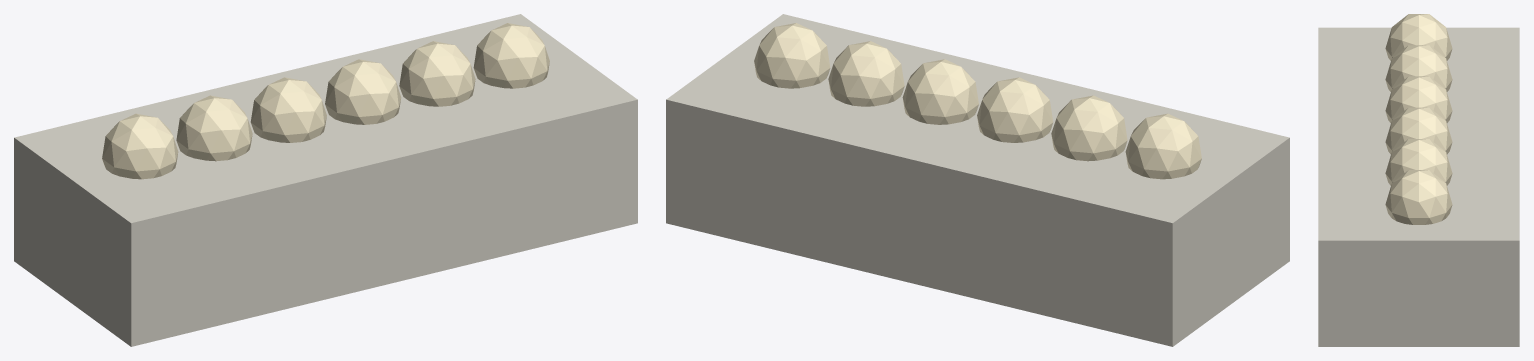
The model's file is sm_product_egg_carton.glb.
3 renders of one model, left to right at view 1: azimuth 30°, elevation 25°; view 2: azimuth 150°, elevation 25°; view 3: azimuth 270°, elevation 25°, orthographic. The views are drawn at different scales.
Parts seen in each view (by area): view 1: egg_carton_0, egg_carton_5, egg_carton_3, egg_carton_1, egg_carton_6, egg_carton_2, egg_carton_4; view 2: egg_carton_0, egg_carton_5, egg_carton_3, egg_carton_1, egg_carton_6, egg_carton_2, egg_carton_4; view 3: egg_carton_0, egg_carton_6, egg_carton_2, egg_carton_3, egg_carton_4, egg_carton_1, egg_carton_5.
Boxes of the visible parts, x1,y1,x2,y2 form: egg_carton_0: [14, 14, 637, 346]; egg_carton_5: [399, 41, 475, 106]; egg_carton_3: [250, 77, 326, 142]; egg_carton_1: [102, 113, 178, 179]; egg_carton_6: [473, 23, 549, 88]; egg_carton_2: [176, 95, 252, 161]; egg_carton_4: [325, 59, 401, 124]; egg_carton_0: [666, 14, 1289, 346]; egg_carton_5: [828, 41, 904, 106]; egg_carton_3: [977, 77, 1053, 142]; egg_carton_1: [1125, 113, 1201, 179]; egg_carton_6: [754, 23, 830, 88]; egg_carton_2: [1051, 95, 1127, 161]; egg_carton_4: [902, 59, 978, 124]; egg_carton_0: [1318, 27, 1519, 346]; egg_carton_6: [1385, 170, 1452, 224]; egg_carton_2: [1385, 45, 1452, 91]; egg_carton_3: [1385, 76, 1452, 123]; egg_carton_4: [1385, 107, 1452, 154]; egg_carton_1: [1385, 14, 1452, 60]; egg_carton_5: [1385, 139, 1452, 185].
Size of what is drawn, in the model's own units: 0.3 by 0.097 by 0.12.
